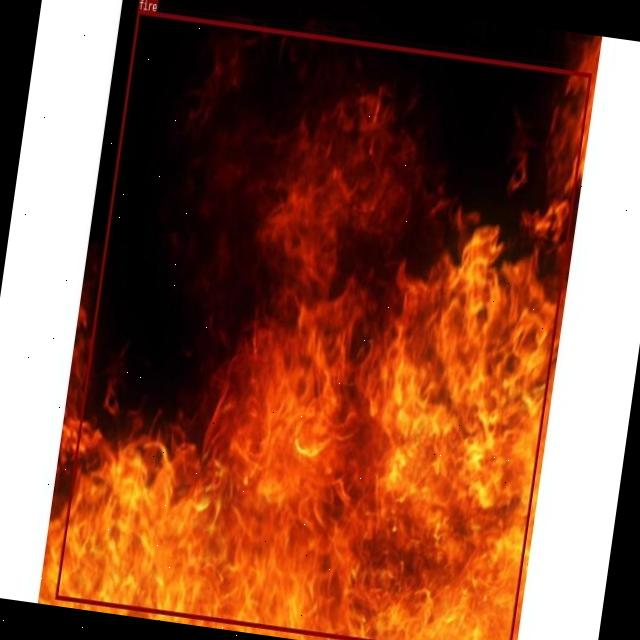fire: (55, 9, 591, 640)
